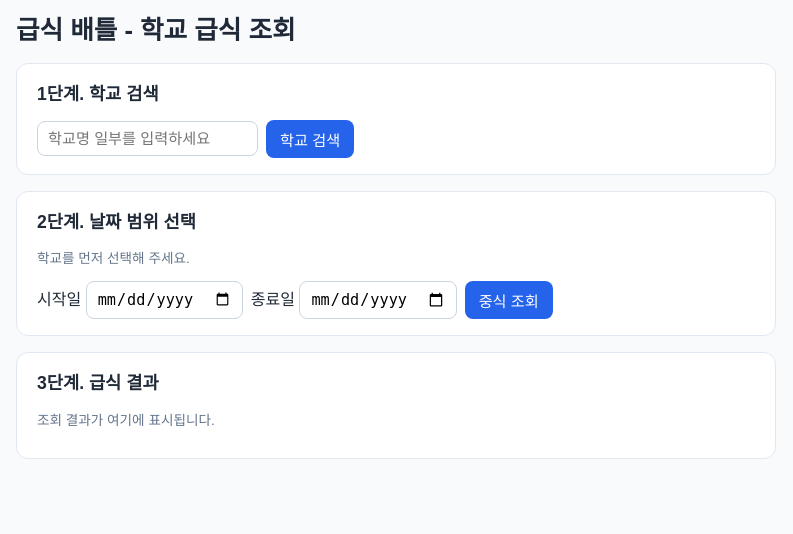
급식 배틀 앱 › 학교 검색 후 결과를 렌더링한다
The width and height of the screenshot is (793, 534).
In the field named "학교명 검색어": (148, 139) [37, 121, 258, 156], type "서울고"
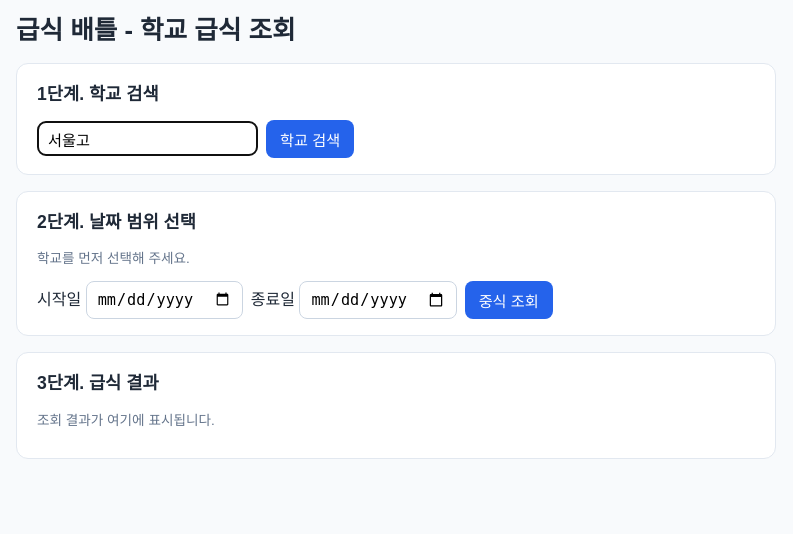
Click the button "학교 검색": click(310, 139) [266, 120, 354, 158]
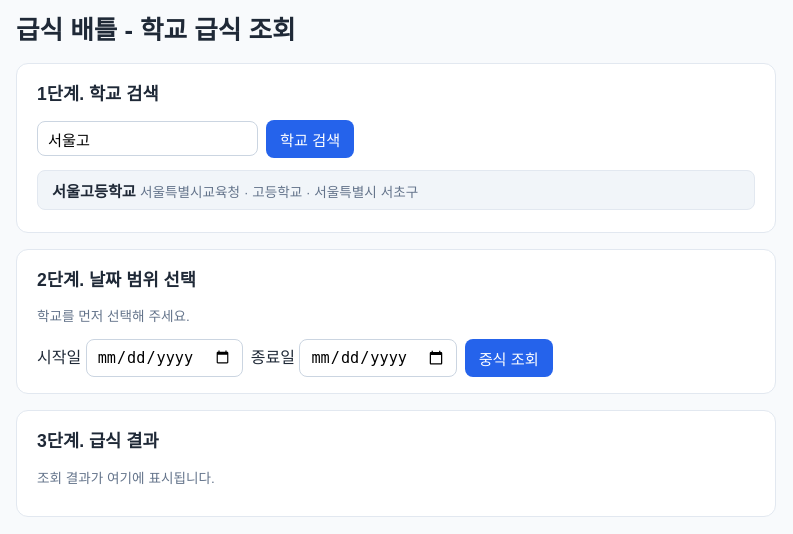
Now the text "서울고등학교" is shown, box [52, 183, 136, 200]
